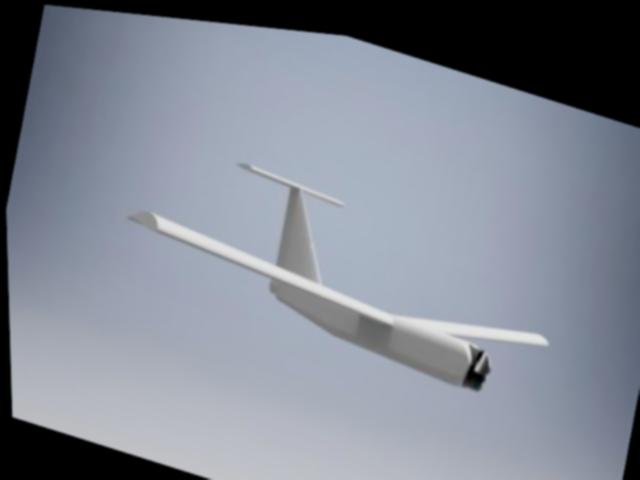uav: (108, 124, 567, 406)
